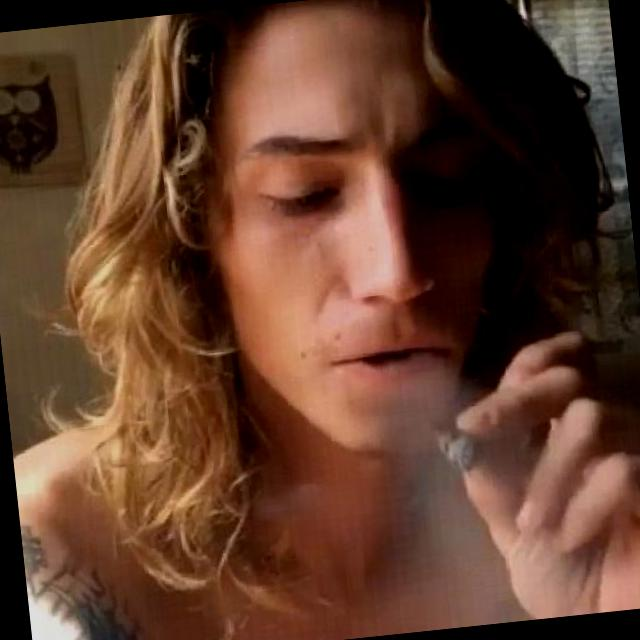smoke: (419, 363, 560, 494)
